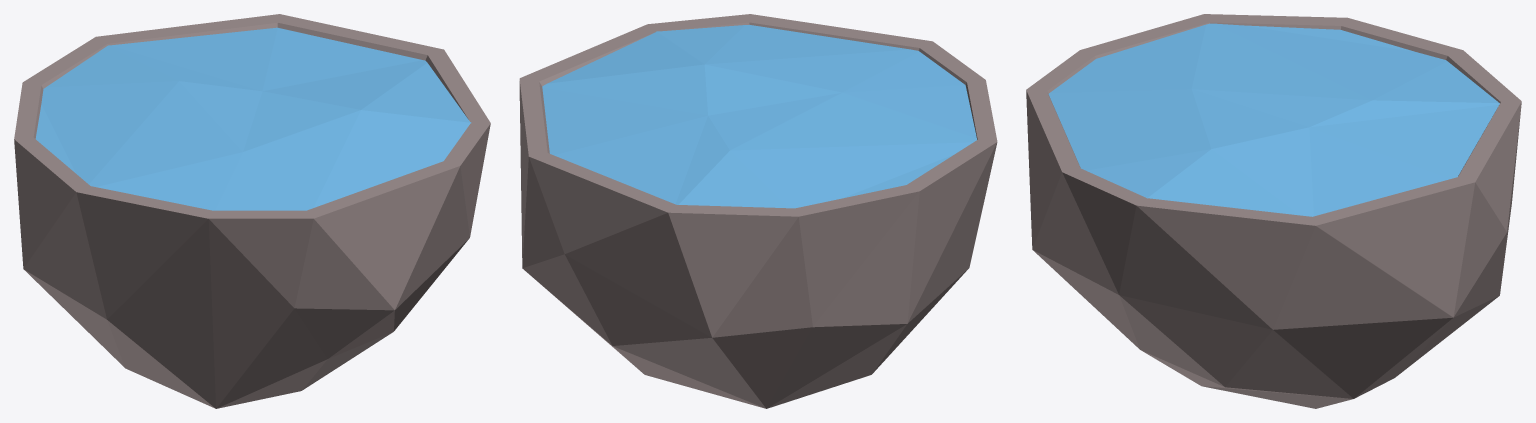
The model's file is island.fbx.
3 renders of one model, left to right at view 1: azimuth 30°, elevation 25°; view 2: azimuth 150°, elevation 25°; view 3: azimuth 270°, elevation 25°, orthographic. The views are drawn at different scales.
Parts seen in each view (by area): view 1: Island.003; view 2: Island.003; view 3: Island.003.
Part boxes in pixels (left/top/right/bottom): Island.003: left=14, top=14, right=490, bottom=408; Island.003: left=519, top=14, right=997, bottom=408; Island.003: left=1026, top=14, right=1521, bottom=408.
Size of the model in its own units: 1029 by 631 by 1017.
